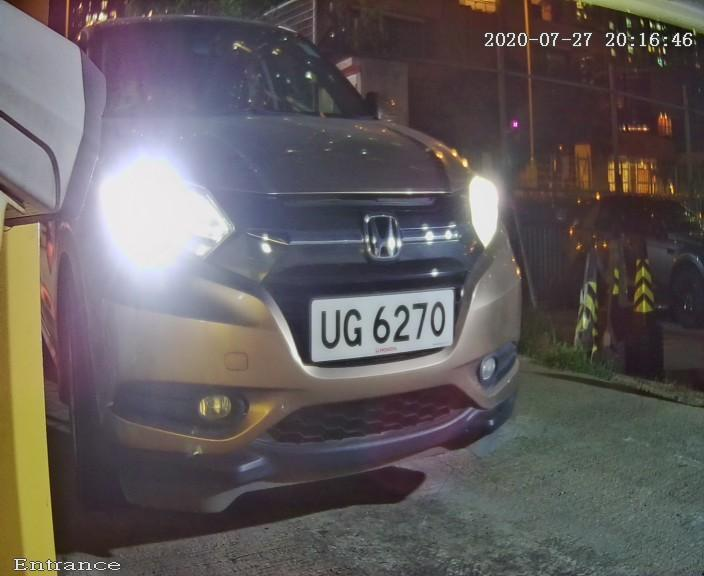privatecar: (51, 6, 535, 535)
